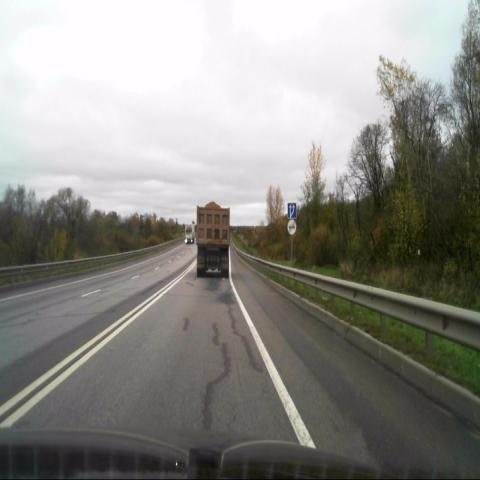3_21: (287, 218, 297, 235)
5_15_3: (287, 202, 297, 218)
